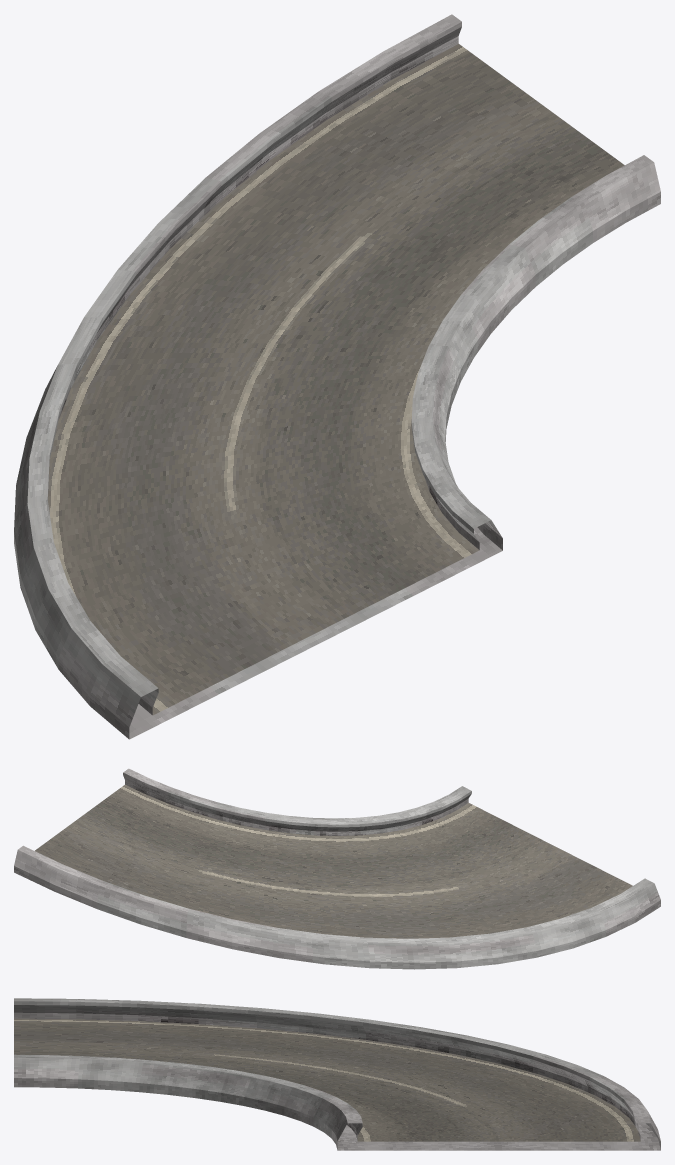
Rendered from turn-right2x2.glb.
3 renders of one model, top to bottom at view 1: azimuth 30°, elevation 25°; view 2: azimuth 150°, elevation 25°; view 3: azimuth 270°, elevation 25°, orthographic. The views are drawn at different scales.
Parts seen in each view (by area): view 1: road-Turn-HalfBankedLeft-BiSlopeUp-Up2-Right-Size2; view 2: road-Turn-HalfBankedLeft-BiSlopeUp-Up2-Right-Size2; view 3: road-Turn-HalfBankedLeft-BiSlopeUp-Up2-Right-Size2.
Boxes of the visible parts, x1=… form: road-Turn-HalfBankedLeft-BiSlopeUp-Up2-Right-Size2: x1=14, y1=14, x2=660, y2=739; road-Turn-HalfBankedLeft-BiSlopeUp-Up2-Right-Size2: x1=14, y1=768, x2=660, y2=969; road-Turn-HalfBankedLeft-BiSlopeUp-Up2-Right-Size2: x1=14, y1=998, x2=660, y2=1150.
Bounding box in the file's own units: 2 × 0.5937 × 2.
Materials: 2 (2 with a texture image).
